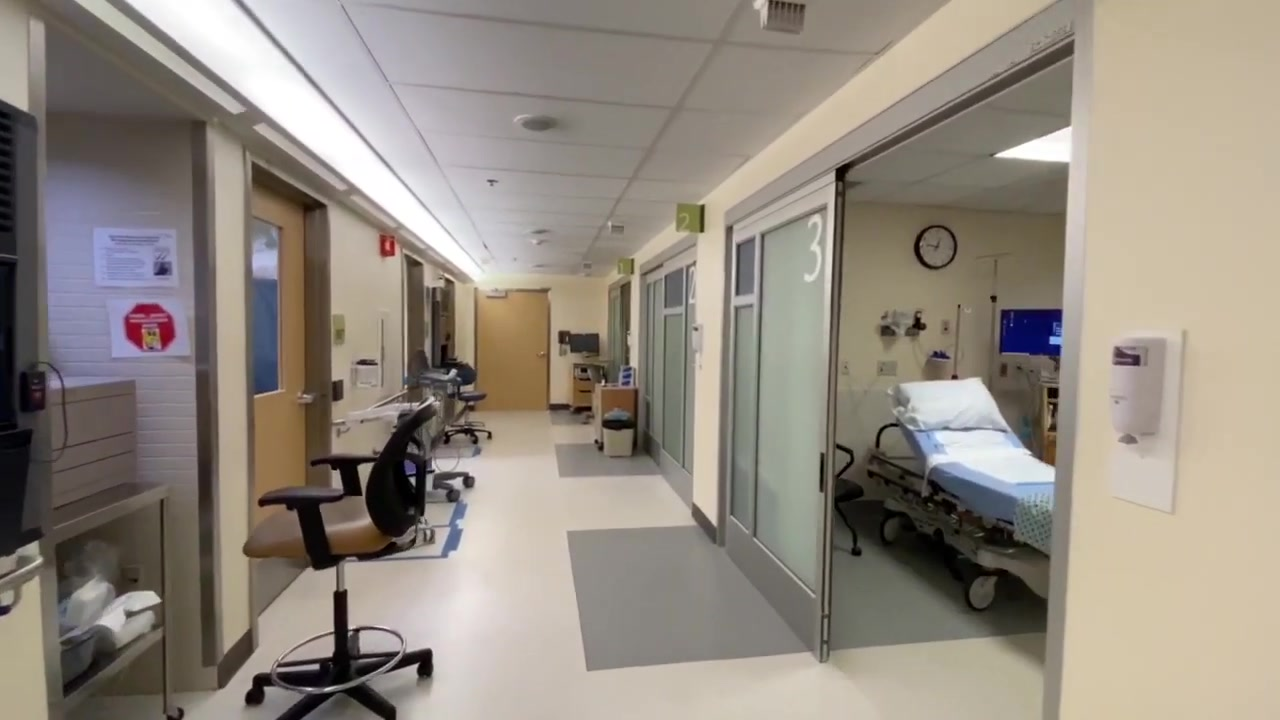chair: (242, 396, 436, 720), (445, 361, 492, 445)
computer: (999, 308, 1062, 357), (570, 336, 602, 355)
dispenser: (1109, 328, 1167, 447), (687, 320, 705, 367)
door_handle: (295, 393, 314, 407)
drawer: (568, 361, 605, 411)
exam_table: (866, 375, 1055, 613)
hallway_assist_bar: (333, 390, 409, 437), (1, 556, 44, 616)
iv_pole: (977, 253, 1013, 393), (951, 303, 970, 380)
telephone: (558, 330, 572, 345)
utility_cart: (38, 483, 194, 720)
waste_bin: (601, 408, 635, 457)
